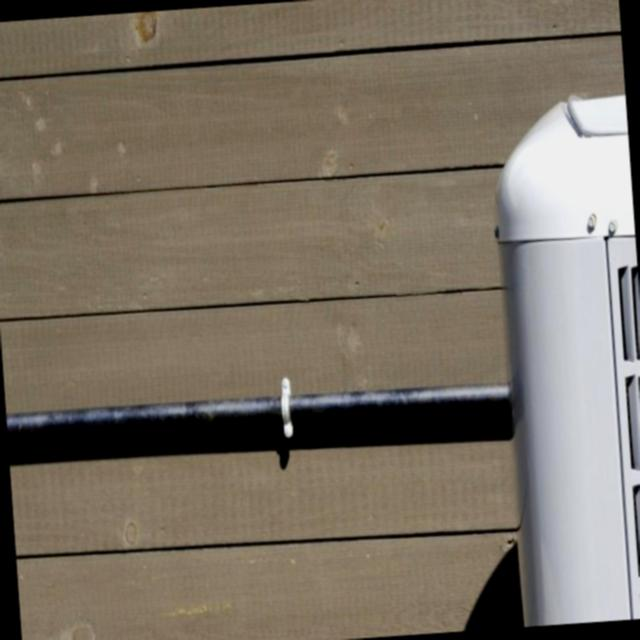SPLIT-SYSTEM: (453, 70, 640, 628)
